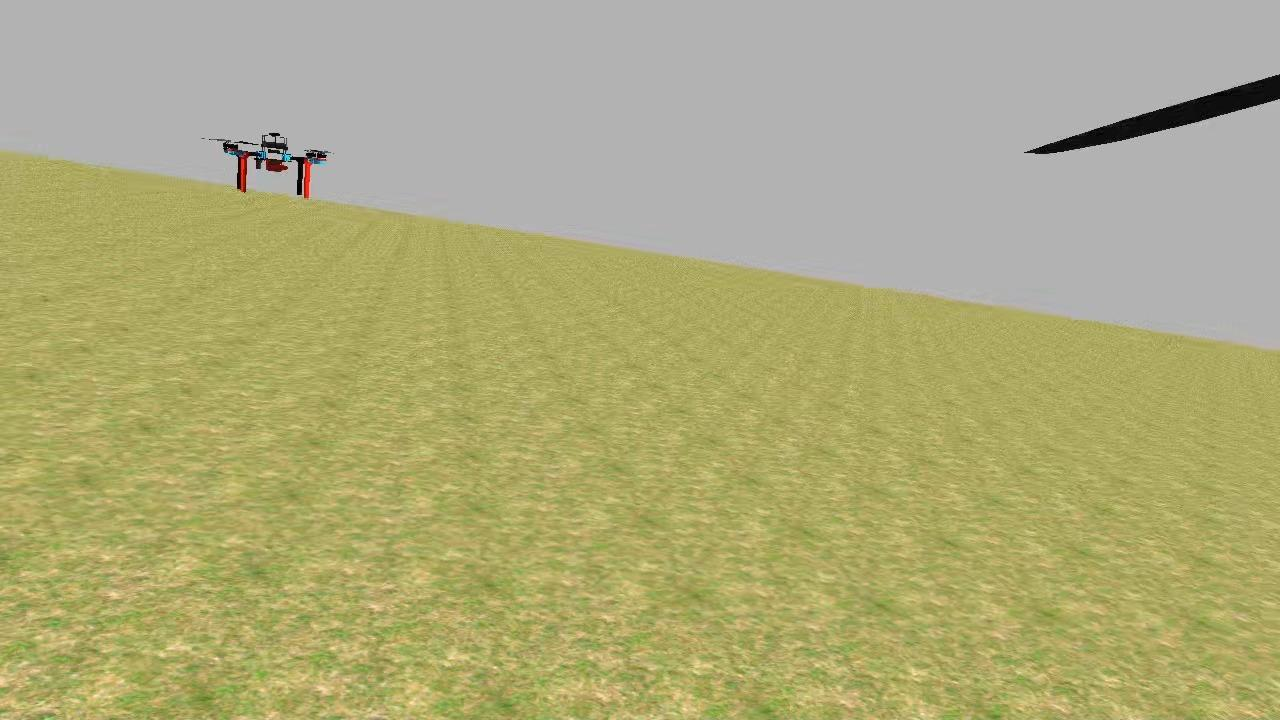UAV: (206, 126, 338, 212)
